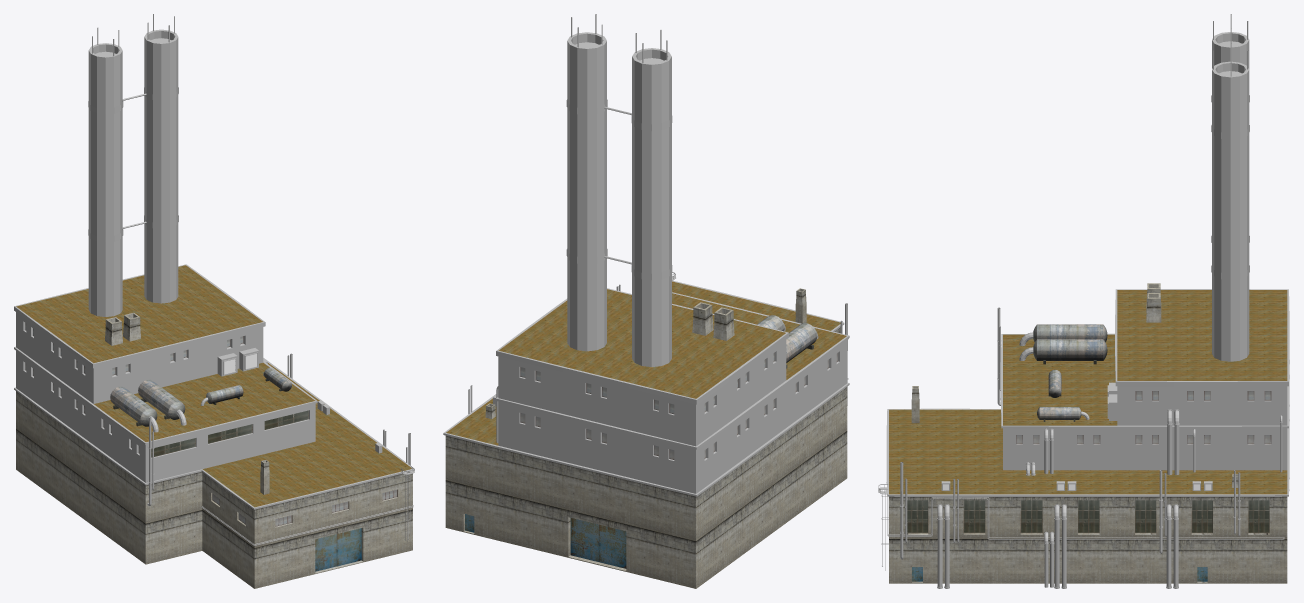
The model's file is Building_7.fbx.
3 renders of one model, left to right at view 1: azimuth 30°, elevation 25°; view 2: azimuth 150°, elevation 25°; view 3: azimuth 270°, elevation 25°, orthographic. The views are drawn at different scales.
Visible parts, largest first — view 1: Building_7, Building_7_Layer2, Building_7_Layer3; view 2: Building_7, Building_7_Layer2; view 3: Building_7, Building_7_Layer2, Building_7_Layer3.
Boxes of the visible parts, x1,y1,x2,y2 form: Building_7: (14,264,414,588); Building_7_Layer2: (88,14,414,542); Building_7_Layer3: (148,348,413,545); Building_7: (443,280,849,588); Building_7_Layer2: (566,14,817,368); Building_7: (886,283,1289,588); Building_7_Layer2: (878,14,1249,570); Building_7_Layer3: (887,332,1284,587).
Bounding box in the file's own units: 21.91 × 40.73 × 31.5.
